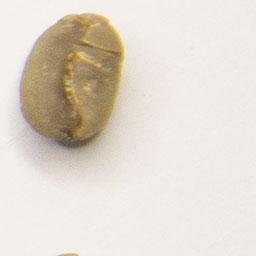premium: (16, 8, 130, 147)
